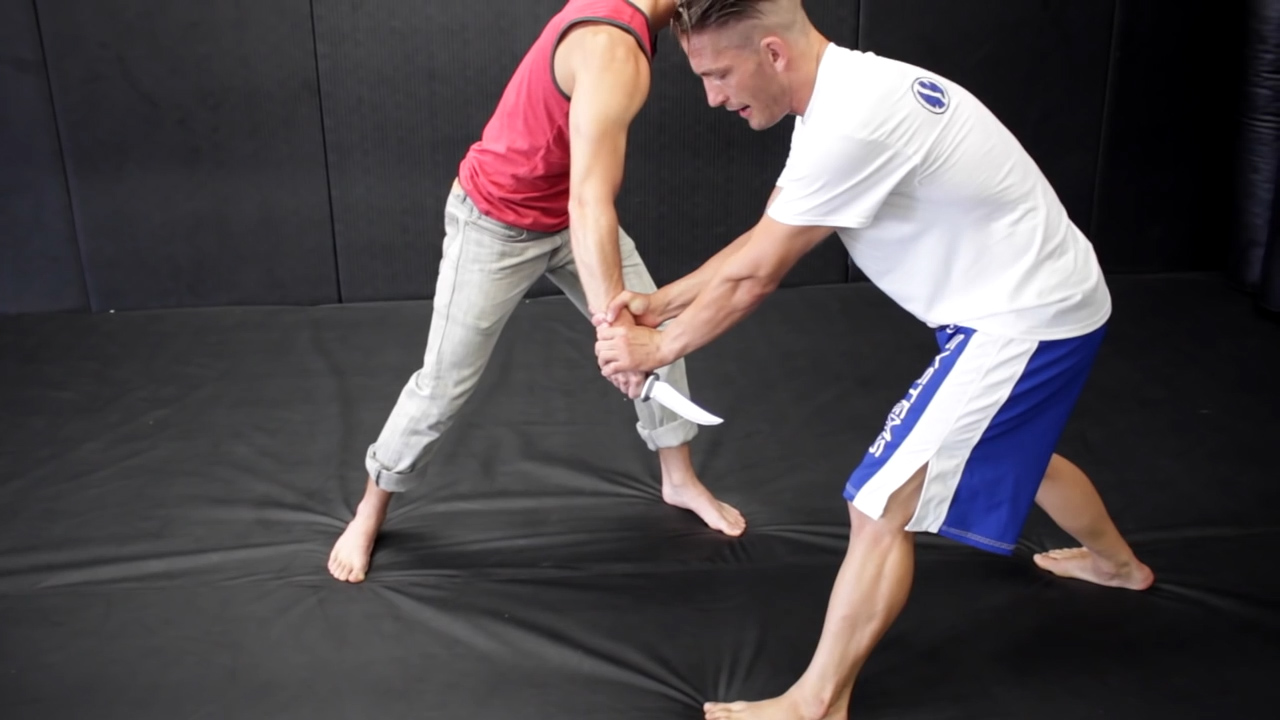knife: (598, 363, 734, 437)
